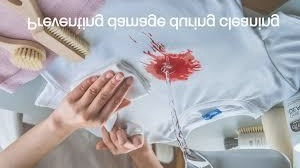blood: (146, 50, 200, 81)
